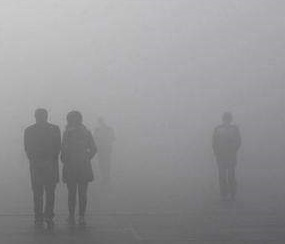person: (24, 106, 60, 233), (60, 109, 96, 227), (211, 111, 244, 204), (92, 116, 119, 187)
